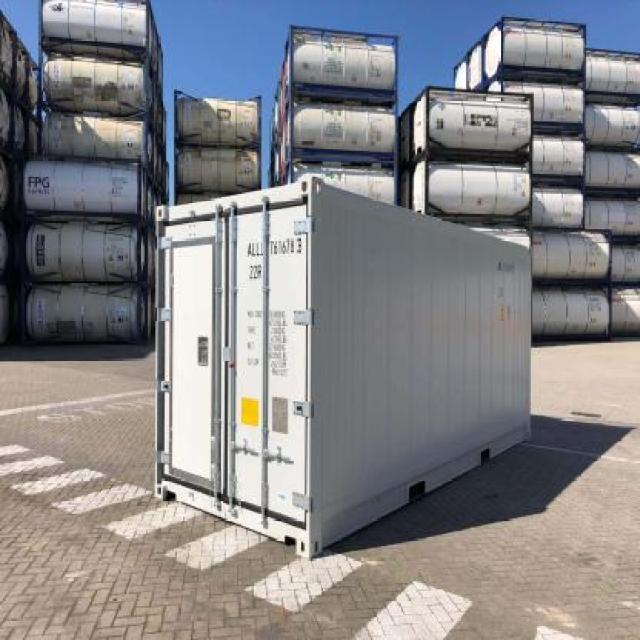ISO: (244, 263, 268, 281)
container_number: (248, 238, 312, 261)
